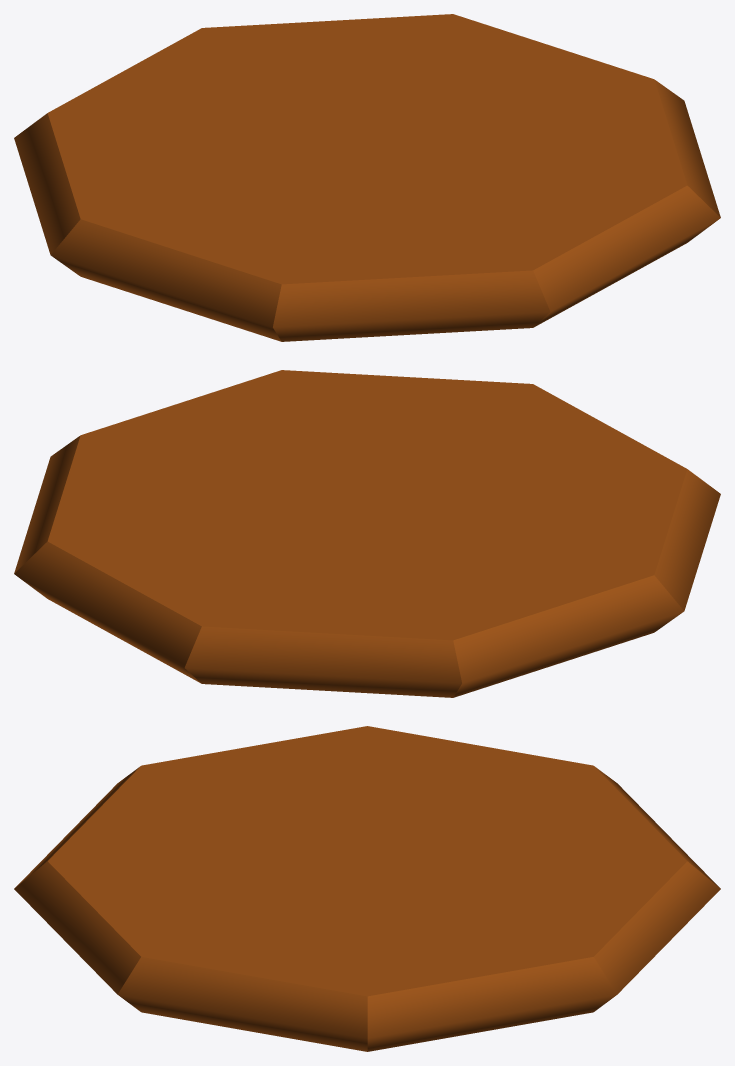
Rendered from cookie.fbx.
3 renders of one model, top to bottom at view 1: azimuth 30°, elevation 25°; view 2: azimuth 150°, elevation 25°; view 3: azimuth 270°, elevation 25°, orthographic. The views are drawn at different scales.
Parts seen in each view (by area): view 1: Cookie; view 2: Cookie; view 3: Cookie.
Boxes of the visible parts, x1,y1,x2,y2 form: Cookie: [14, 14, 720, 341]; Cookie: [14, 370, 720, 697]; Cookie: [14, 726, 720, 1051].
Size of the model in its own units: 1.99 by 0.1725 by 1.99.
